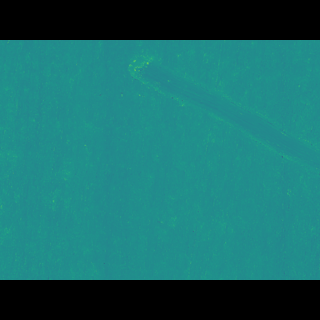Loch: (126, 79, 319, 172)
